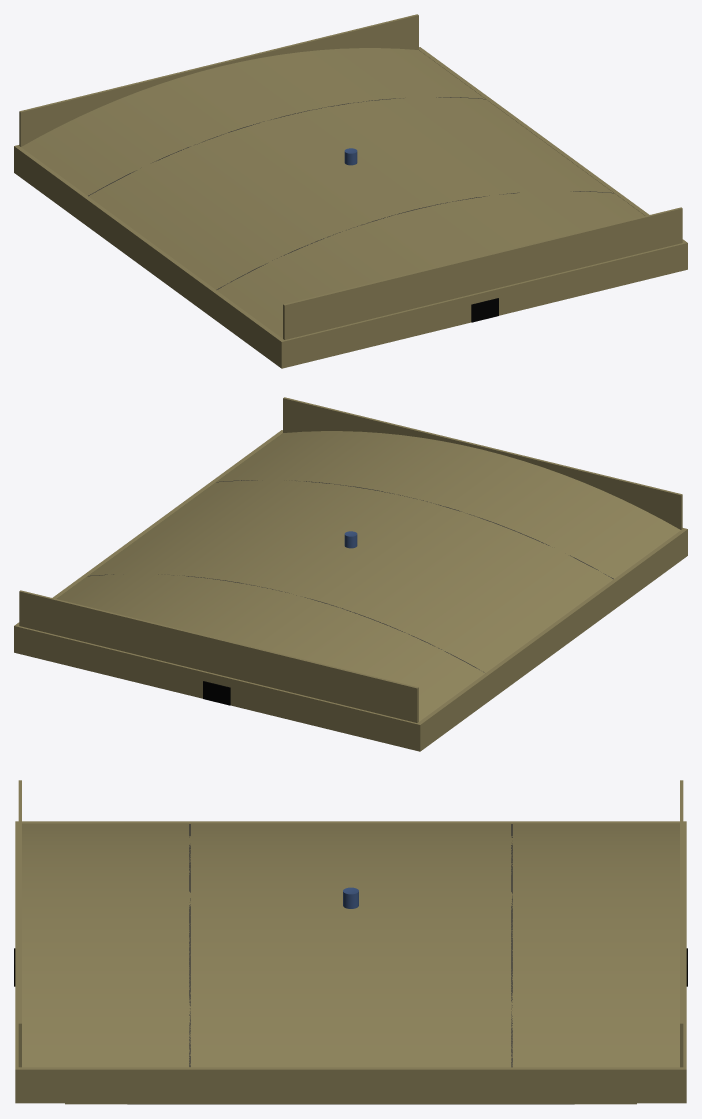
File: Stadium_Updated.fbx
3 renders of one model, top to bottom at view 1: azimuth 30°, elevation 25°; view 2: azimuth 150°, elevation 25°; view 3: azimuth 270°, elevation 25°, orthographic. The views are drawn at different scales.
Visible parts, largest first — view 1: Roof, MainWall, Wall_2, Wall_1; view 2: Roof, MainWall, Wall_1, Wall_2; view 3: Roof, MainWall, Wall_1, Wall_2.
Boxes of the visible parts, <box> form: Roof: <box>21,48,644,338</box>; MainWall: <box>14,47,687,368</box>; Wall_2: <box>283,207,682,339</box>; Wall_1: <box>19,14,418,146</box>; Roof: <box>57,431,680,721</box>; MainWall: <box>14,430,687,751</box>; Wall_1: <box>19,590,418,722</box>; Wall_2: <box>283,397,682,529</box>; Roof: <box>22,824,679,1067</box>; MainWall: <box>15,821,686,1104</box>; Wall_1: <box>680,780,683,1067</box>; Wall_2: <box>18,780,21,1067</box>.
Bounding box in the file's own units: 66.96 × 17.05 × 76.77.
